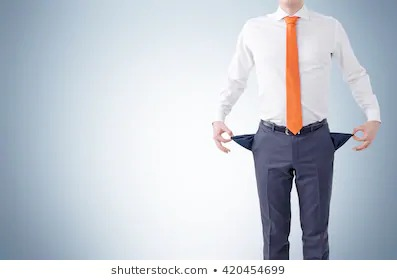F_belt: (261, 118, 332, 135)
F_dress pants: (244, 115, 334, 260)
F_shirt: (215, 6, 381, 131)
F_tie: (281, 17, 302, 134)
